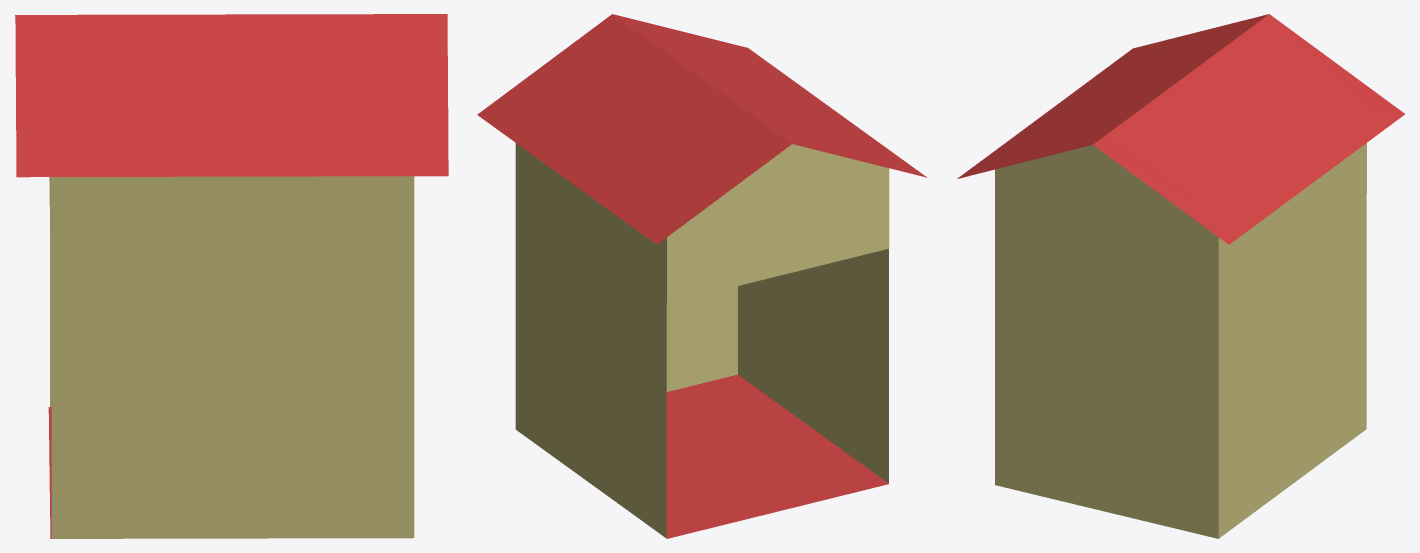
3 renders of one model, left to right at view 1: azimuth 30°, elevation 25°; view 2: azimuth 150°, elevation 25°; view 3: azimuth 270°, elevation 25°, orthographic. The views are drawn at different scales.
Visible parts, largest first — view 1: group_5, group_3, group_4; view 2: group_5, group_3, group_6, group_4; view 3: group_5, group_3, group_4.
Boxes of the visible parts, x1,y1,x2,y2 form: group_5: (49,176,414,538); group_3: (15,14,448,177); group_4: (15,14,448,177); group_5: (515,143,889,538); group_3: (516,21,888,215); group_6: (666,374,888,538); group_4: (477,14,926,244); group_5: (995,143,1366,538); group_3: (995,14,1366,216); group_4: (957,14,1405,244).
Size of the model in its own units: 12.38 by 11.96 by 11.09.
